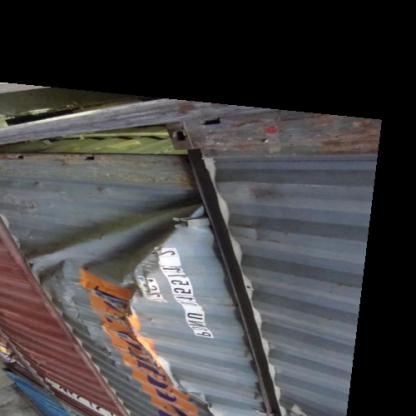Damage: (121, 190, 221, 414), (26, 214, 148, 314)
